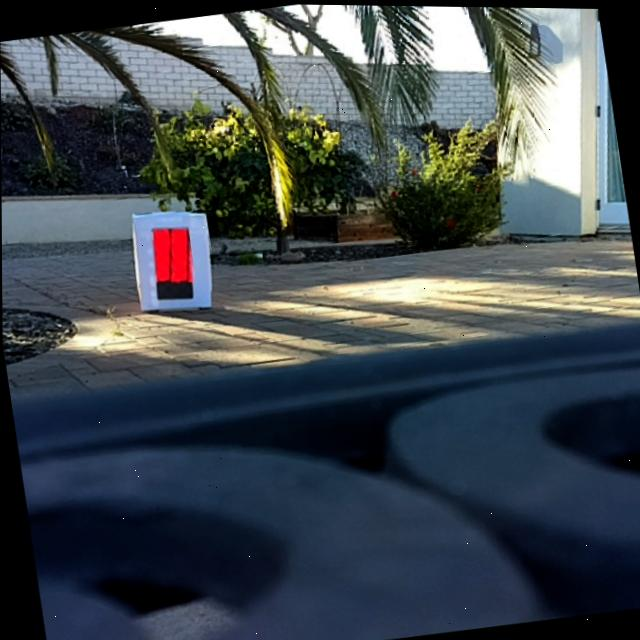led: (146, 222, 198, 305)
